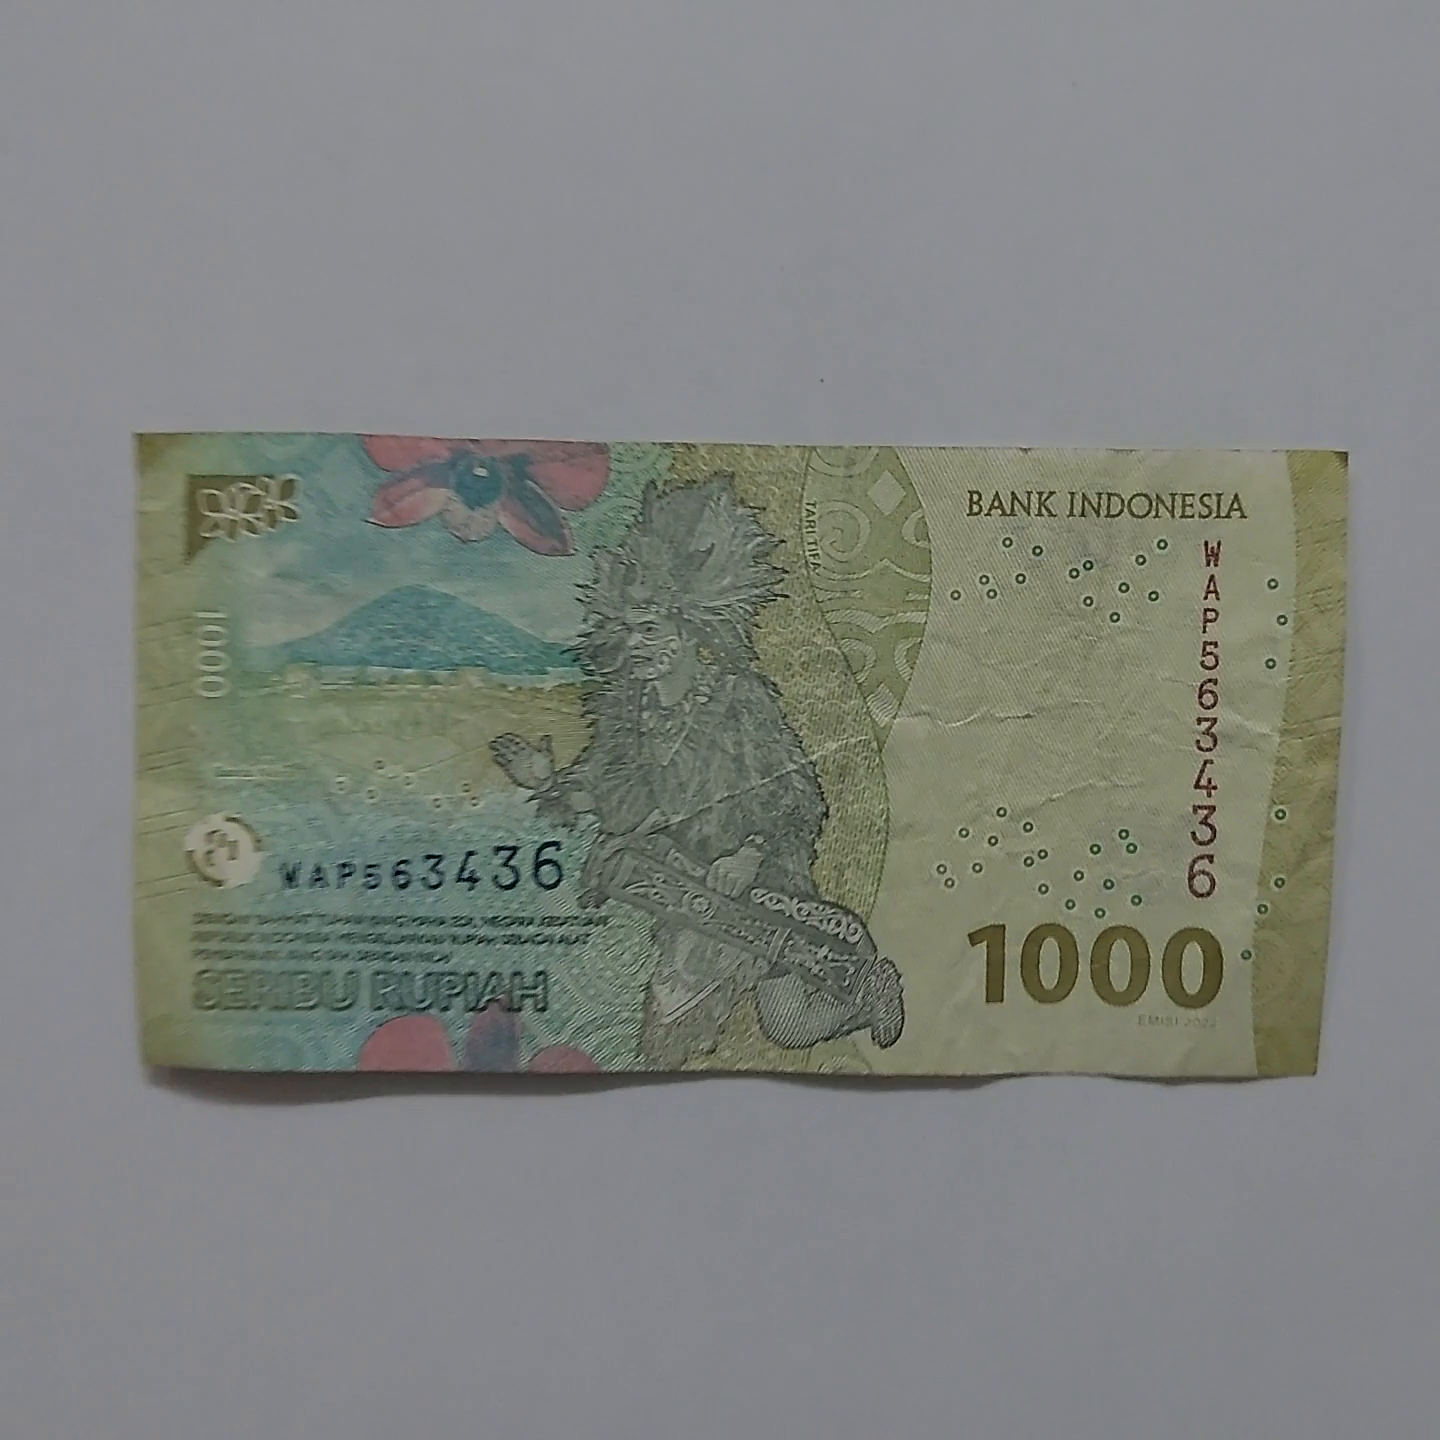1k: (103, 423, 1360, 1097)
